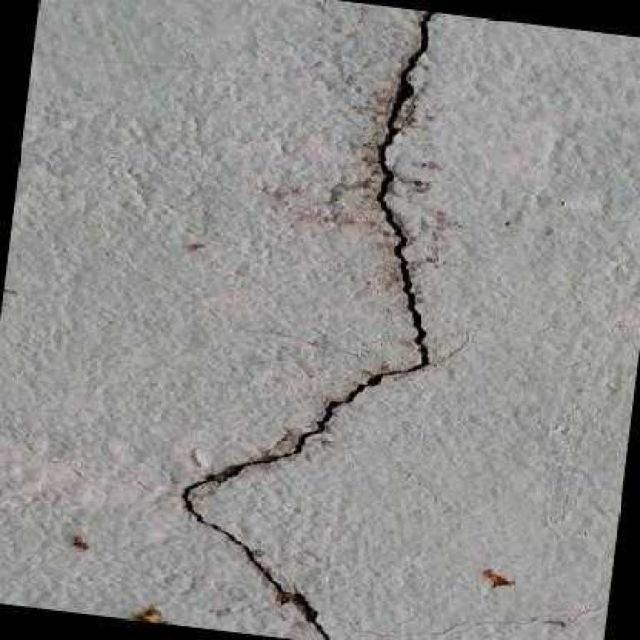D00: (179, 10, 440, 640)
